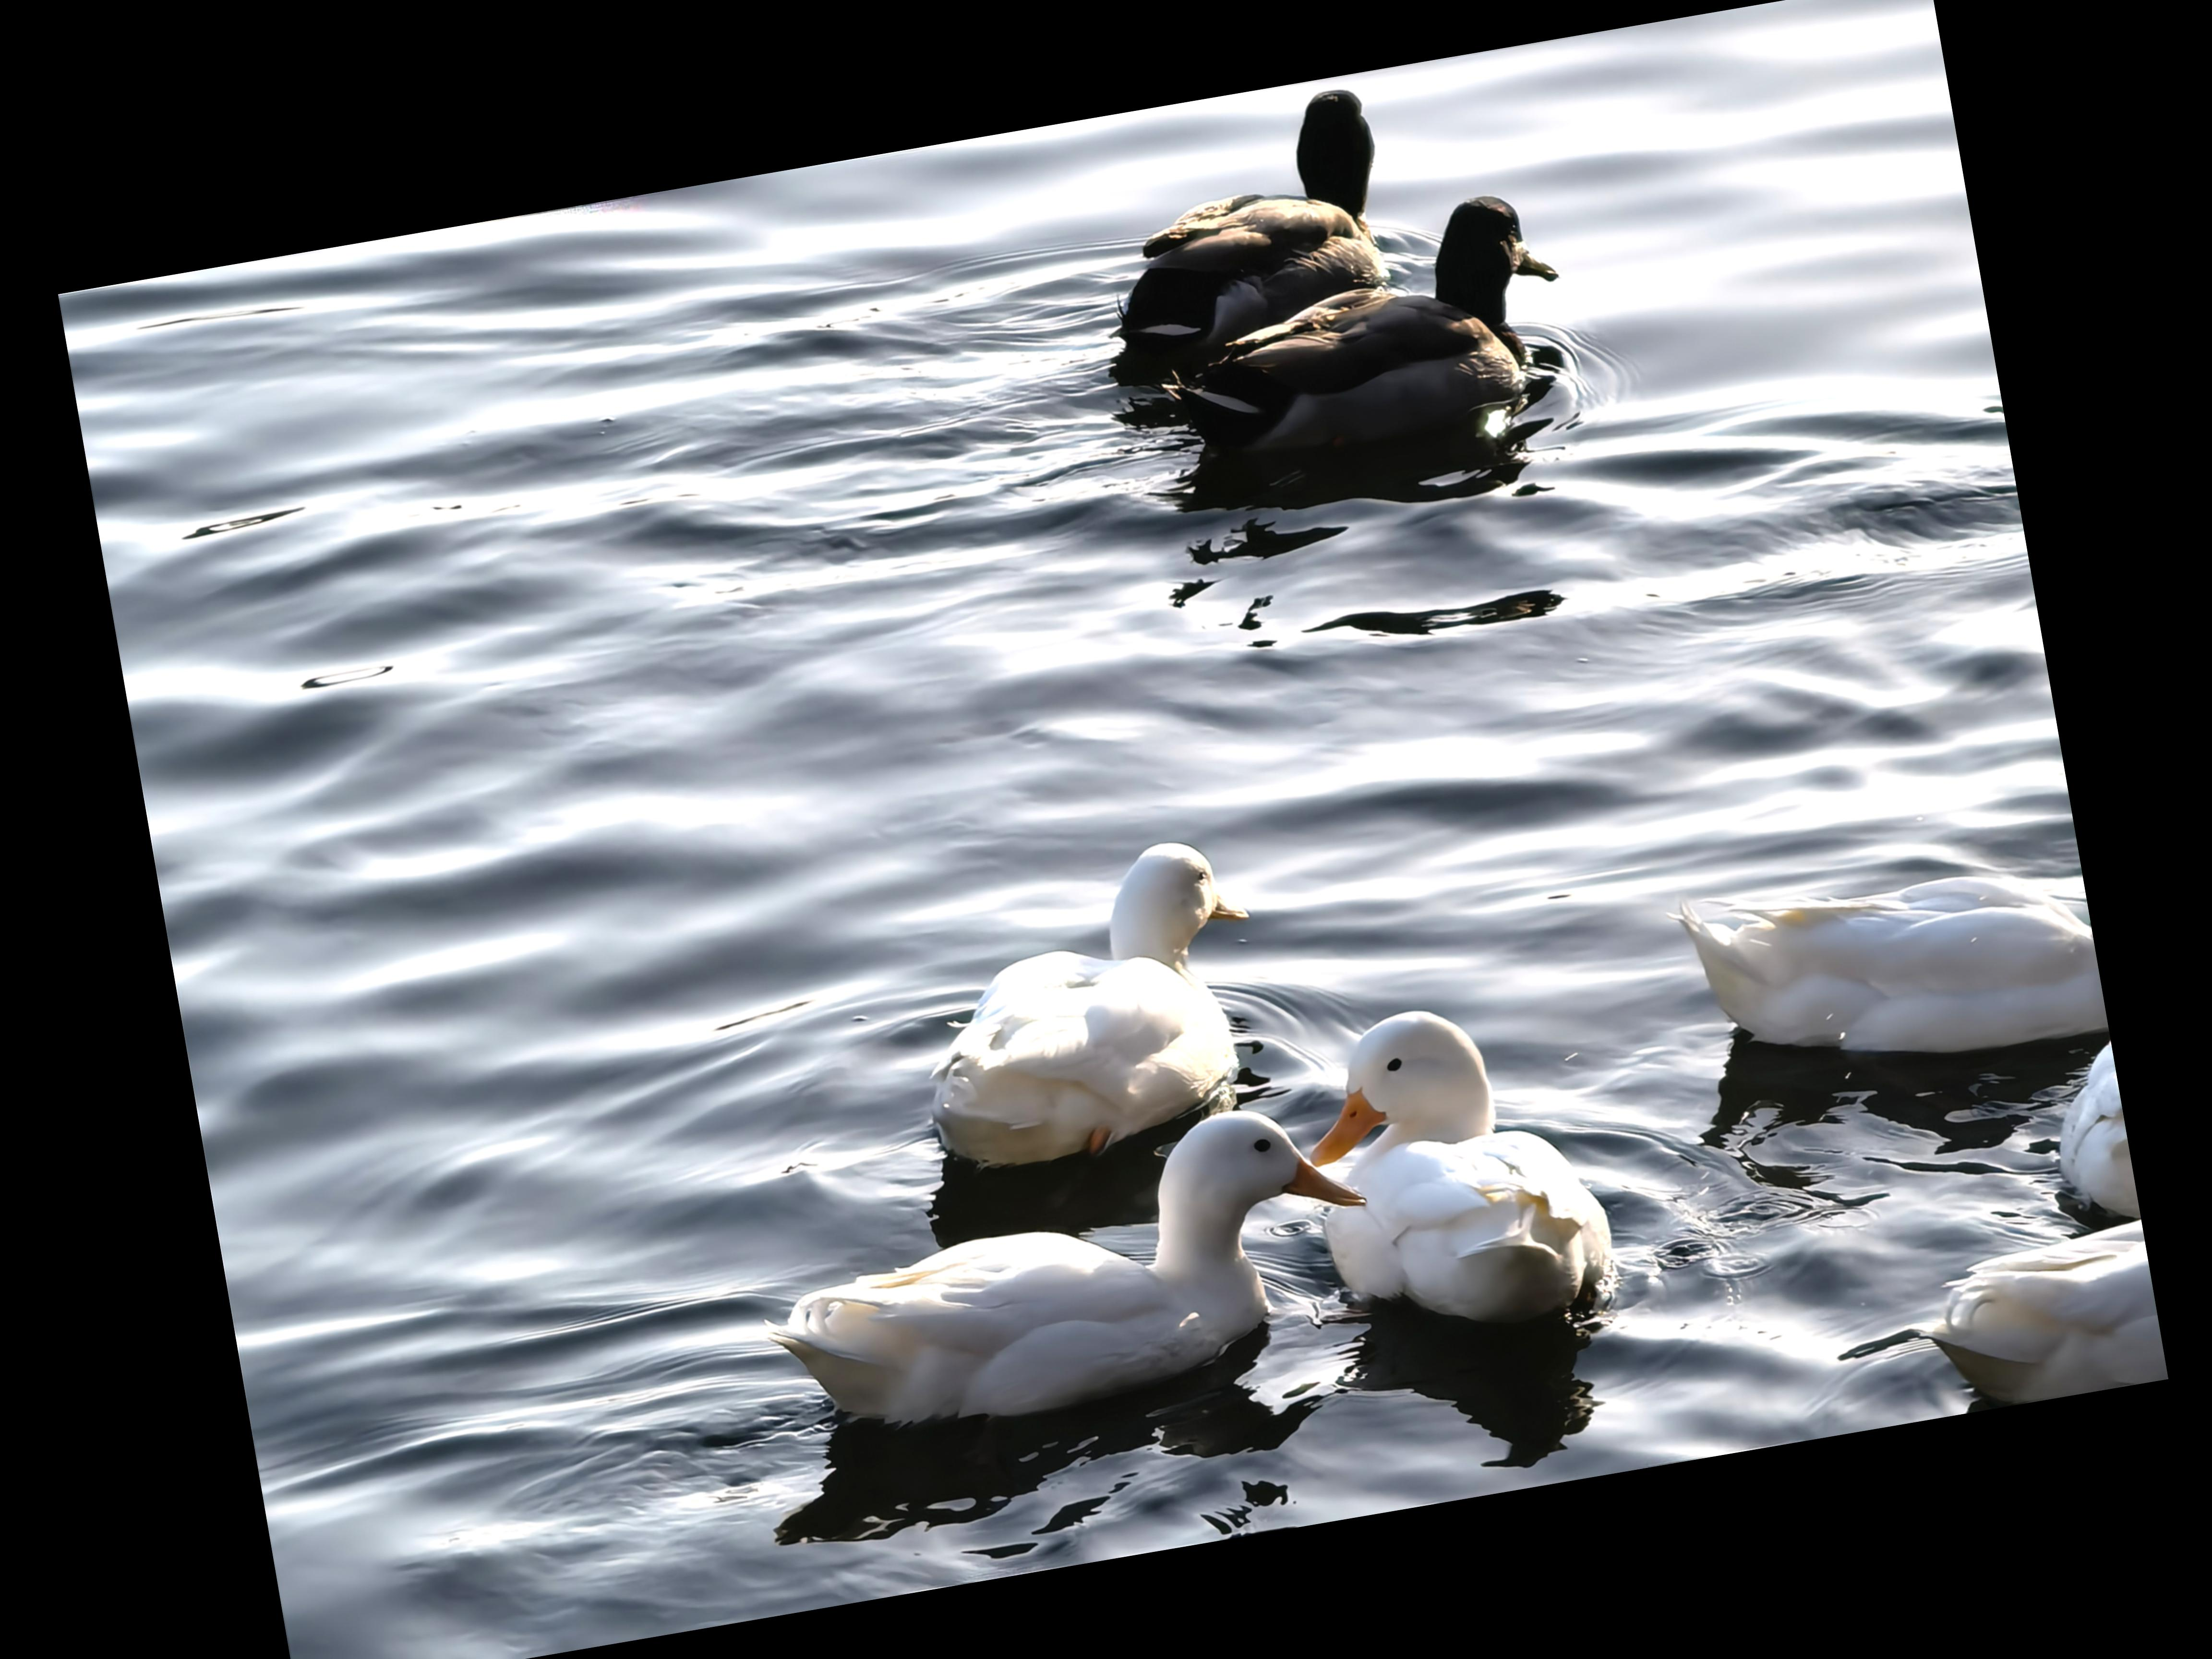duck: (695, 1080, 1397, 1502), (1104, 166, 1615, 549), (846, 793, 1331, 1194), (1653, 805, 2107, 1103), (1278, 960, 1618, 1349), (1062, 64, 1446, 368)
